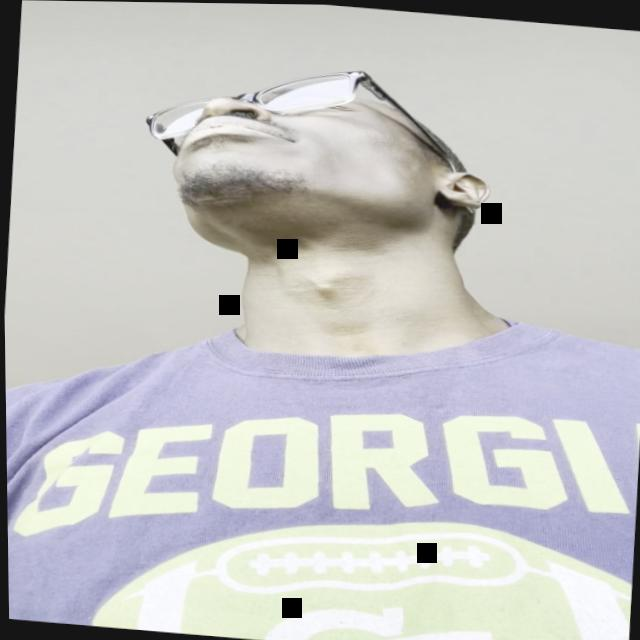NO-Mask: (149, 71, 477, 261)
